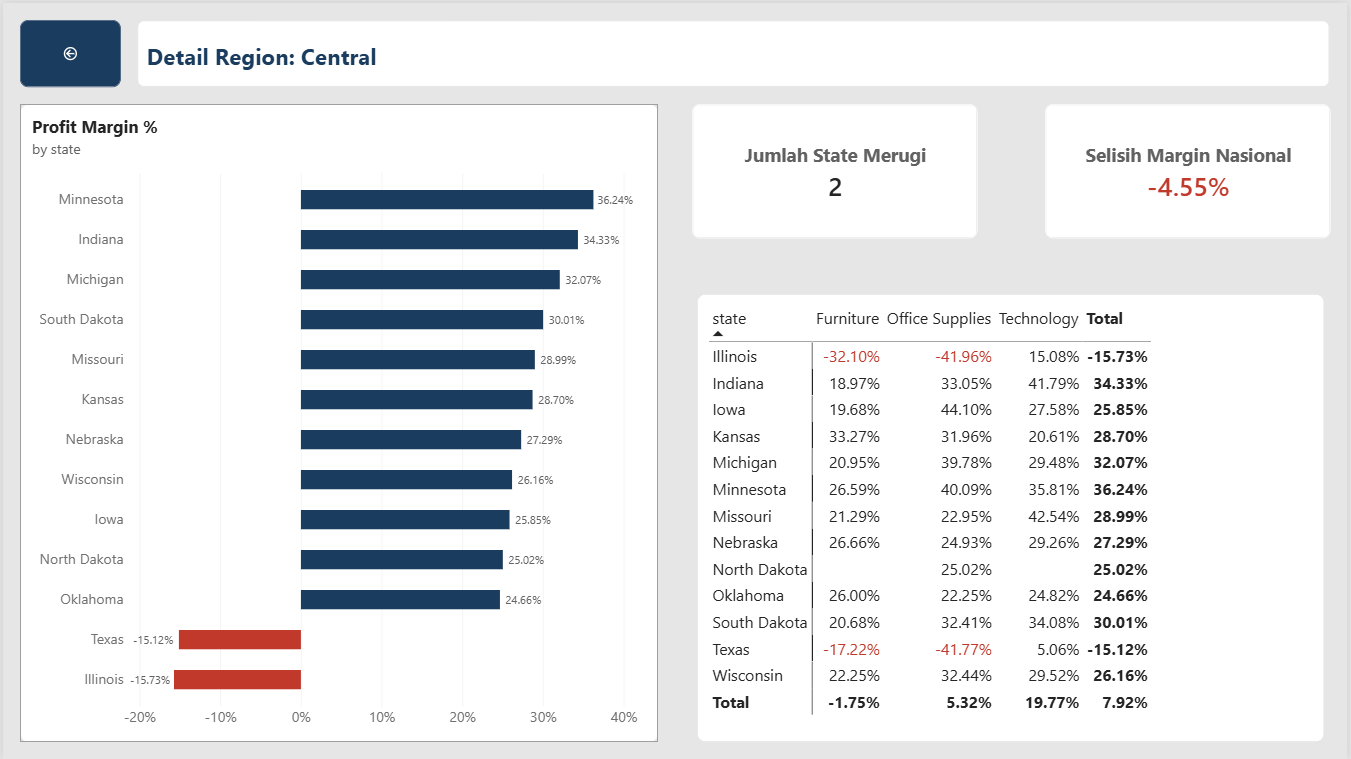

The dashboard page shown, as its layout file describes it:
{"tool":"powerbi","page":{"name":"Detail Region","canvas":[1920,1080],"ordinal":5},"visuals":[{"type":"actionButton","box":[24,24,144,96],"z":0},{"type":"clusteredBarChart","fields":{"Category":["dim_geography.state"],"Y":["fact_orders.Profit Margin %"]},"box":[24,144,912,912],"z":1000},{"type":"pivotTable","fields":{"Columns":["fact_orders.category"],"Rows":["dim_geography.state"],"Values":["fact_orders.Profit Margin %"]},"box":[992,416,896,640],"z":2000},{"type":"cardVisual","fields":{"Data":["fact_orders.Judul Region Detail"]},"box":[192,24,1704,96],"z":3000},{"type":"cardVisual","fields":{"Data":["fact_orders.Jumlah State Merugi"]},"box":[984,144,408,192],"z":4000},{"type":"cardVisual","fields":{"Data":["fact_orders.Selisih Margin Nasional"]},"box":[1488,144,408,192],"z":5000}]}

Visuals, with their boxes in screenshot pixels (x1, y1, x2, y2), scaled from the page's 1920x1080 canvas onto the 1351x759 screenshot:
actionButton: rect(17, 17, 118, 84)
clusteredBarChart - dim_geography.state x fact_orders.Profit Margin %: rect(17, 101, 659, 742)
pivotTable - fact_orders.category x dim_geography.state: rect(698, 292, 1328, 742)
cardVisual - fact_orders.Judul Region Detail: rect(135, 17, 1334, 84)
cardVisual - fact_orders.Jumlah State Merugi: rect(692, 101, 979, 236)
cardVisual - fact_orders.Selisih Margin Nasional: rect(1047, 101, 1334, 236)
